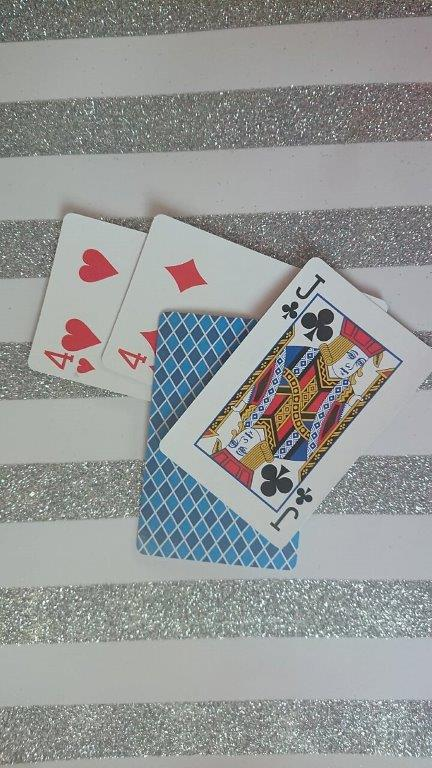4D: (98, 227, 152, 391)
4H: (25, 211, 94, 391)
BACK: (133, 549, 299, 573)
JC: (157, 255, 432, 551)
